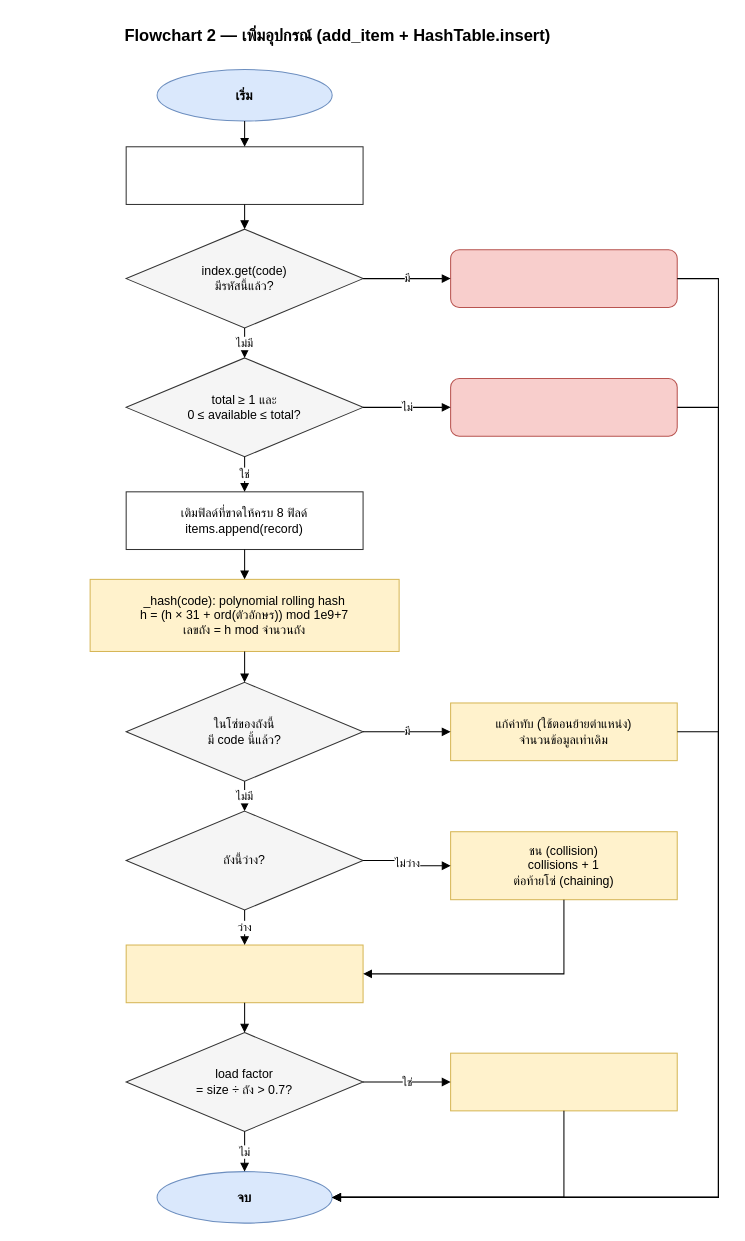
The diagram is 745 pixels wide and 1241 high, and some of its shapes have lost their labels. The shapes that lost their labels are listed below. From the top down, each one's centre as x and y in pixels, then its label:
At (x=244, y=175): "รับ record ใหม่ (code, name, total, available ...)".
At (x=563, y=278): "ปฏิเสธ: รหัสซ้ำ".
At (x=563, y=406): "ปฏิเสธ: จำนวนไม่ถูกต้อง".
At (x=244, y=973): "ใส่ (code, ตำแหน่ง) ลงถัง size + 1".
At (x=563, y=1081): "_resize(): ถัง × 2 rehash ทุกตัวลงถังใหม่".
